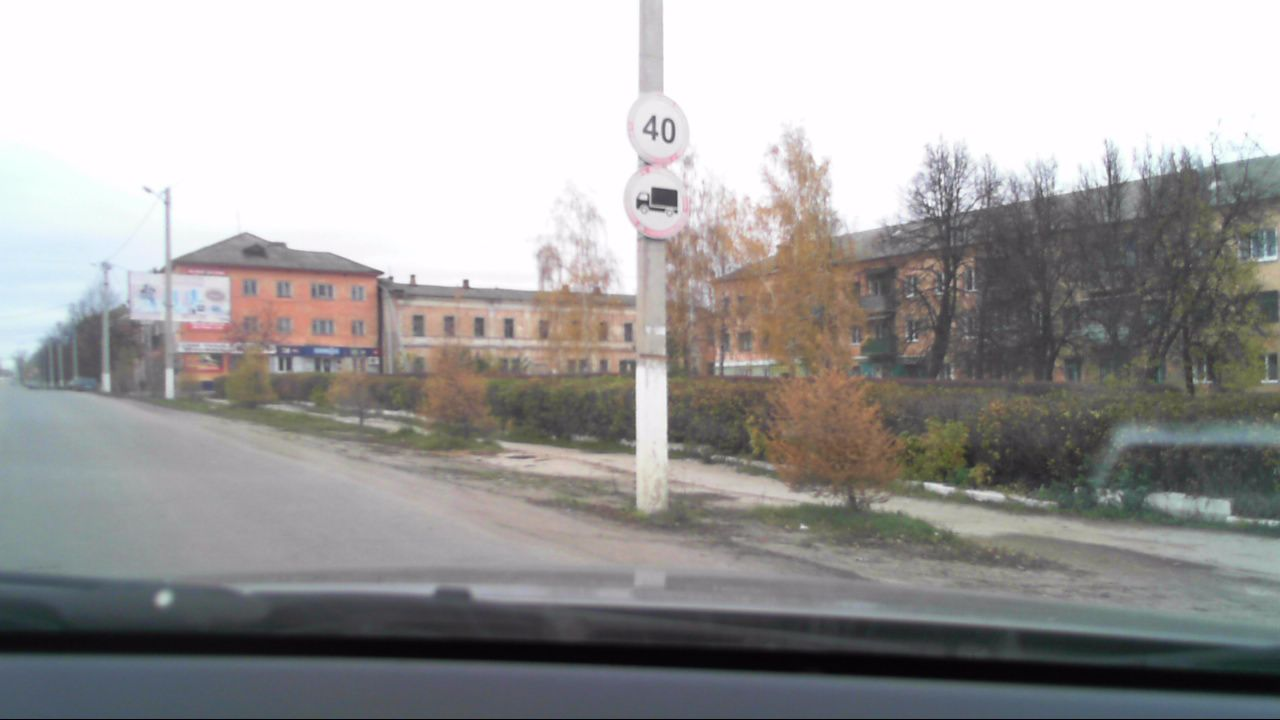speed_warning_40: (624, 90, 694, 164)
